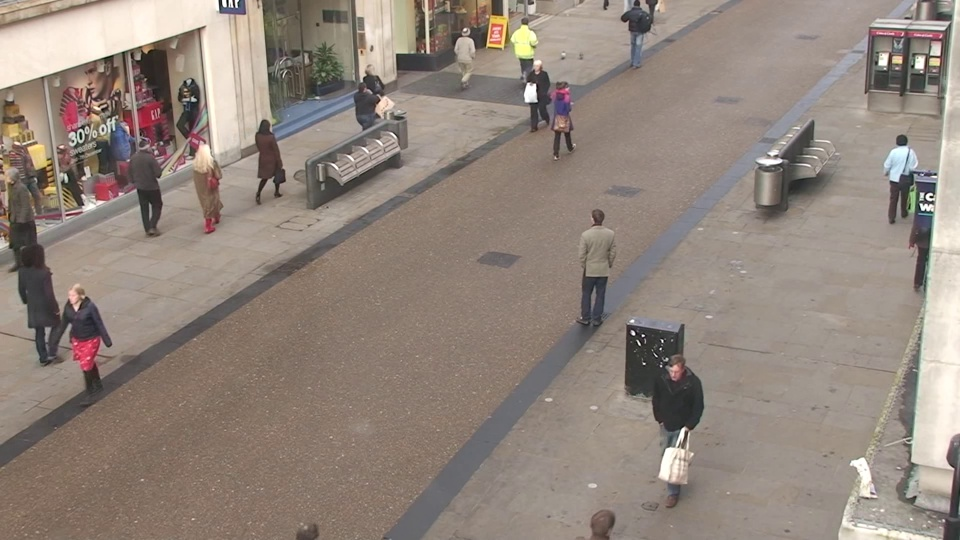pedestrian: (54, 278, 115, 414), (648, 350, 701, 506), (10, 239, 71, 365), (876, 130, 921, 232), (579, 203, 617, 323), (124, 136, 166, 234), (186, 138, 226, 238), (250, 115, 285, 208), (571, 495, 633, 540), (349, 78, 380, 162), (356, 63, 386, 143), (547, 76, 575, 161), (525, 57, 552, 136), (454, 24, 479, 94), (513, 14, 537, 82)
